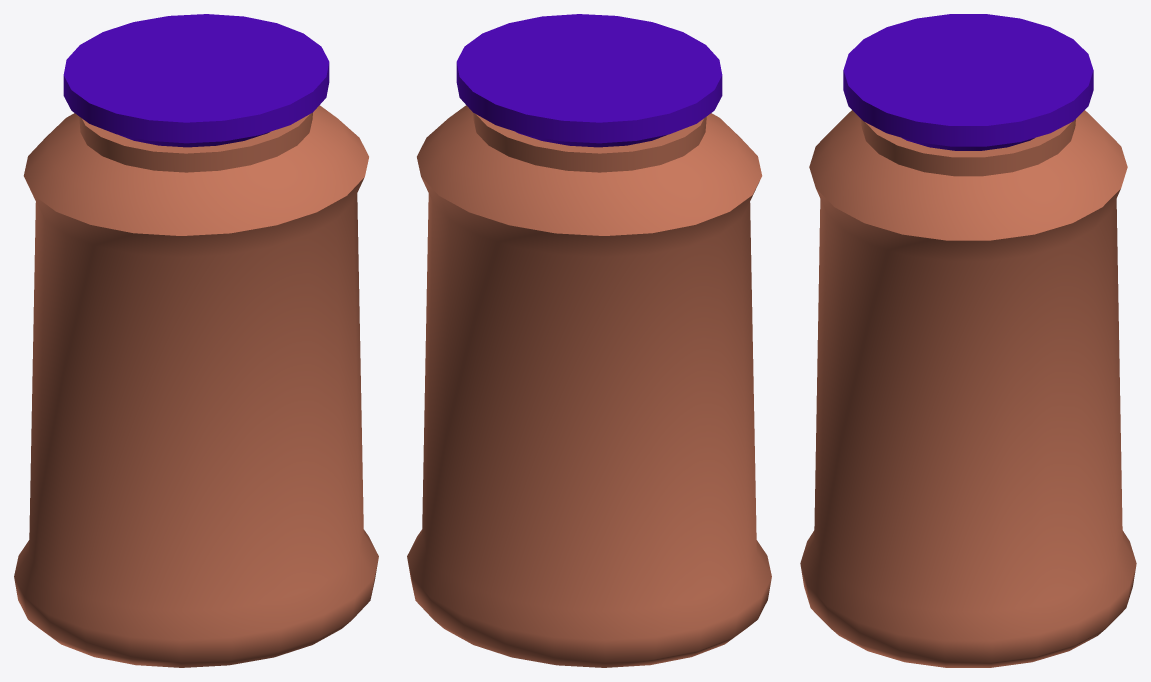
File: laogaonmao 1.fbx
3 views of the same model, side by side, from view 1: azimuth 30°, elevation 25°; view 2: azimuth 150°, elevation 25°; view 3: azimuth 270°, elevation 25° (orthographic).
Visible parts, largest first — view 1: Laoganmao; view 2: Laoganmao; view 3: Laoganmao.
Part boxes in pixels (x1,y1,x2,y2): Laoganmao: (14,14,378,667); Laoganmao: (407,14,771,667); Laoganmao: (800,14,1136,667).
Size of the model in its own units: 0.6971 by 1.11 by 0.64.
